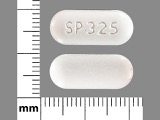Acetaminophen 325 MG Oral Tablet: (48, 7, 136, 49), (48, 52, 134, 92)
